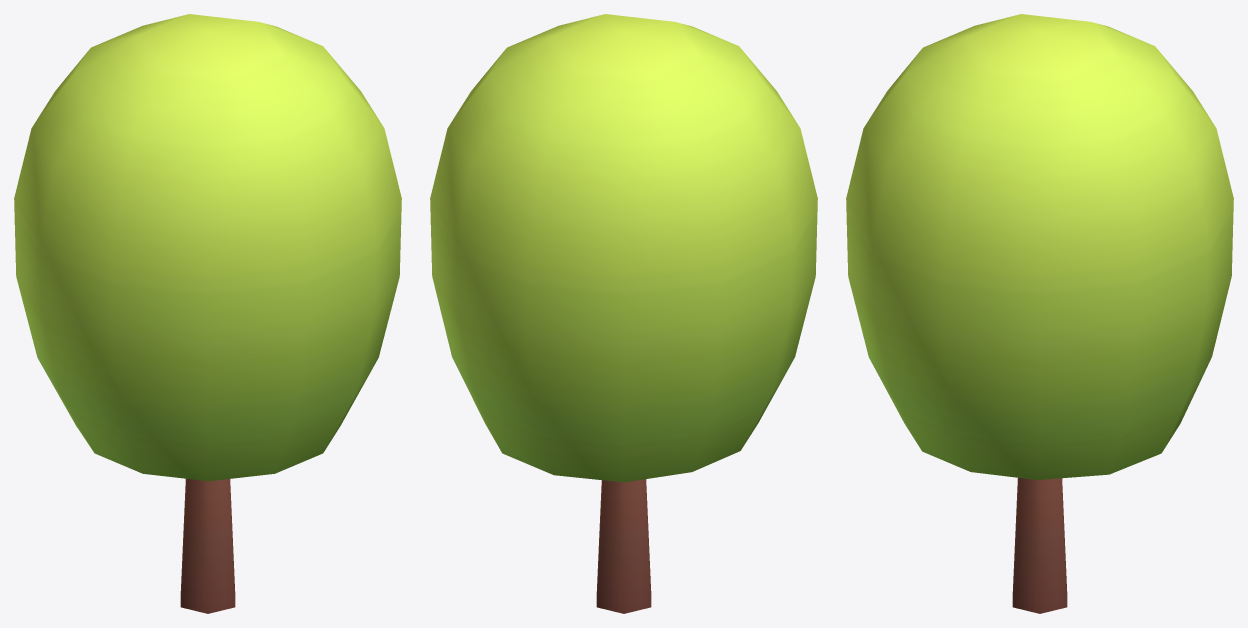
Rendered from city2-tree-04.glb.
3 views of the same model, side by side, from view 1: azimuth 30°, elevation 25°; view 2: azimuth 150°, elevation 25°; view 3: azimuth 270°, elevation 25° (orthographic).
Parts seen in each view (by area): view 1: Tree_04; view 2: Tree_04; view 3: Tree_04.
Part boxes in pixels (x1,y1,x2,y2): Tree_04: (14, 14, 401, 613); Tree_04: (430, 14, 817, 613); Tree_04: (846, 14, 1233, 613).
Size of the model in its own units: 3.49 by 5.65 by 3.49.
1 material, 1 textured.
